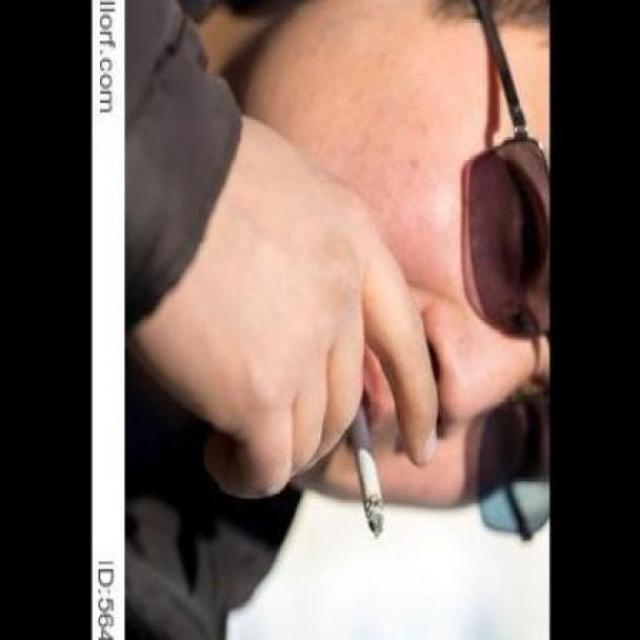rokok: (346, 380, 390, 548)
